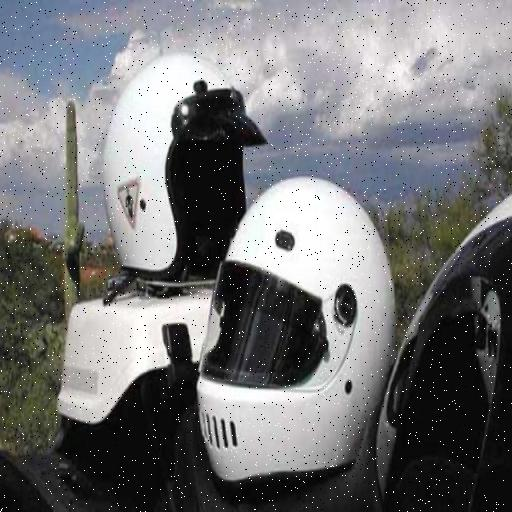Helmet: (198, 178, 395, 481), (376, 197, 511, 510), (104, 54, 264, 279)
